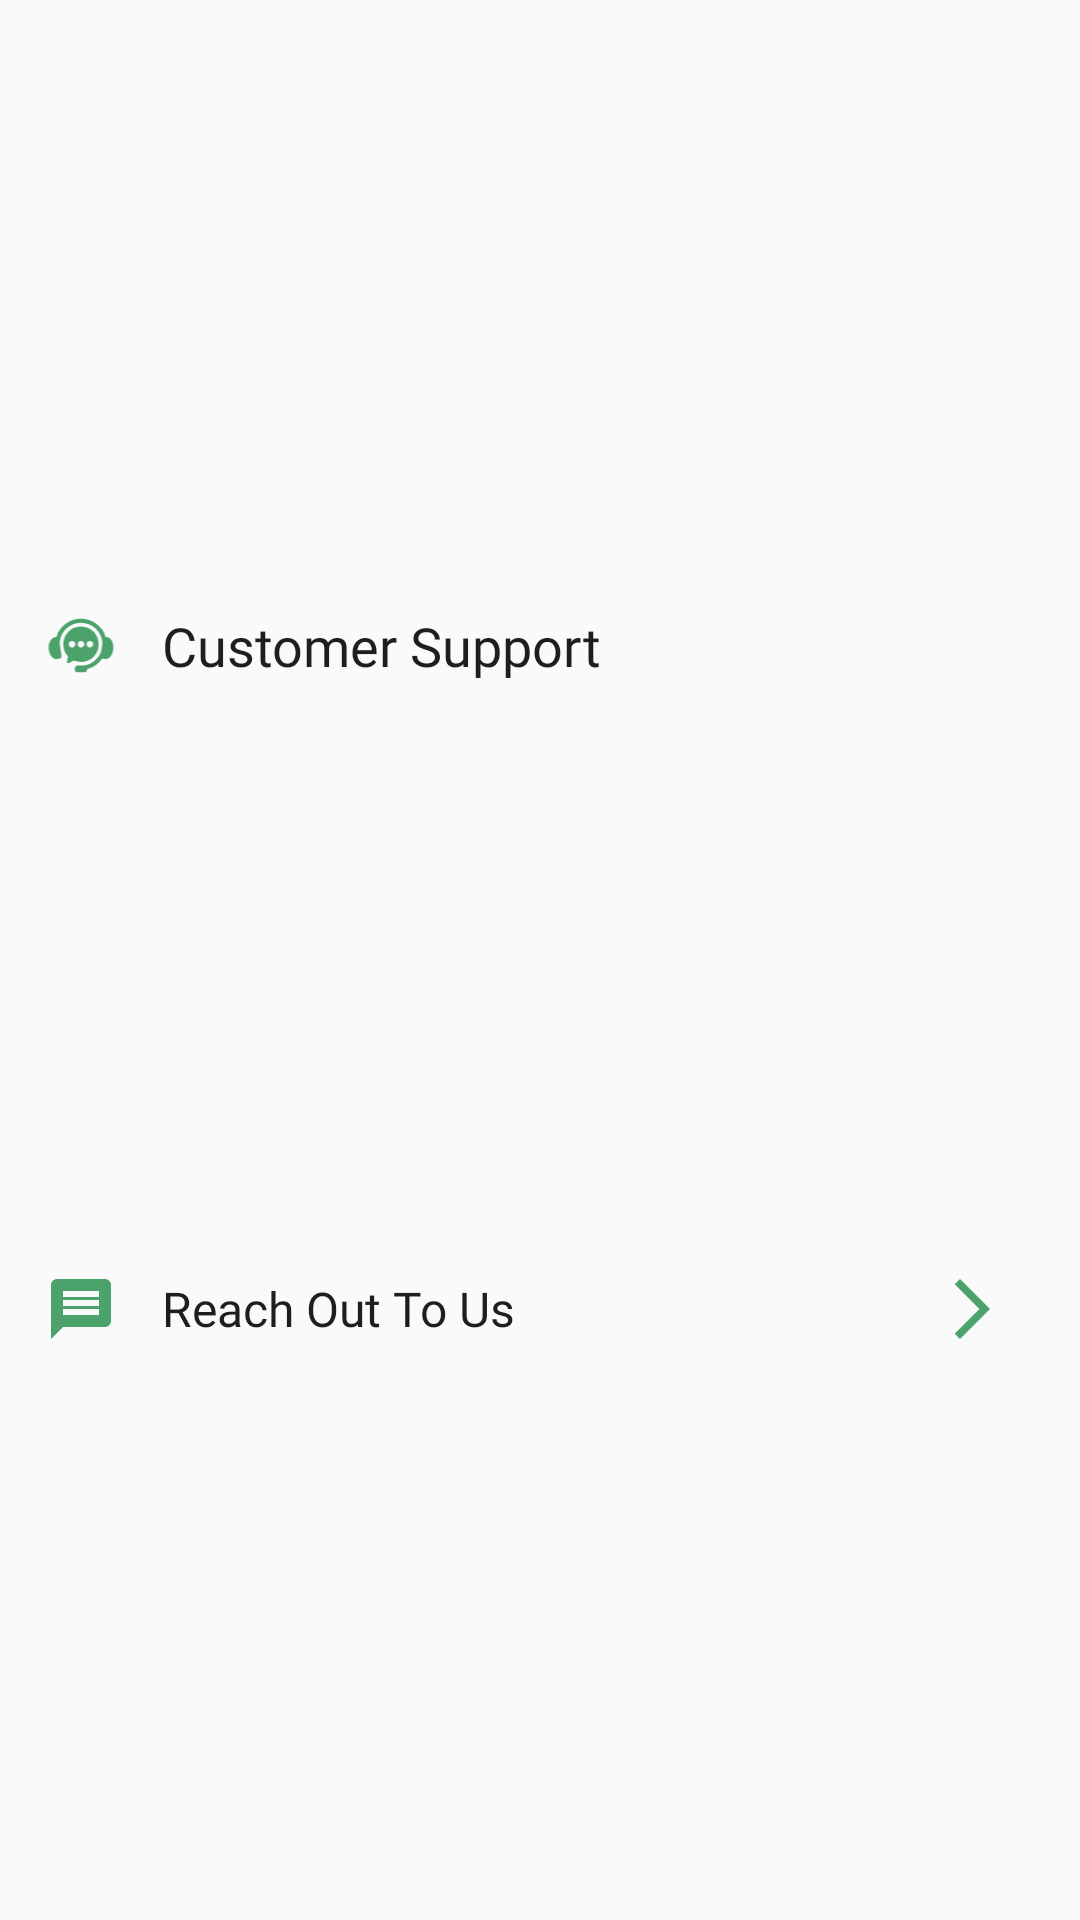

Icon bounding boxes for this 1080x1920 phone screenshot, format (x1, y1, x2, y2):
next: (955, 1279, 990, 1339)
